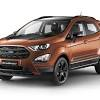Ford: (1, 14, 100, 86)
